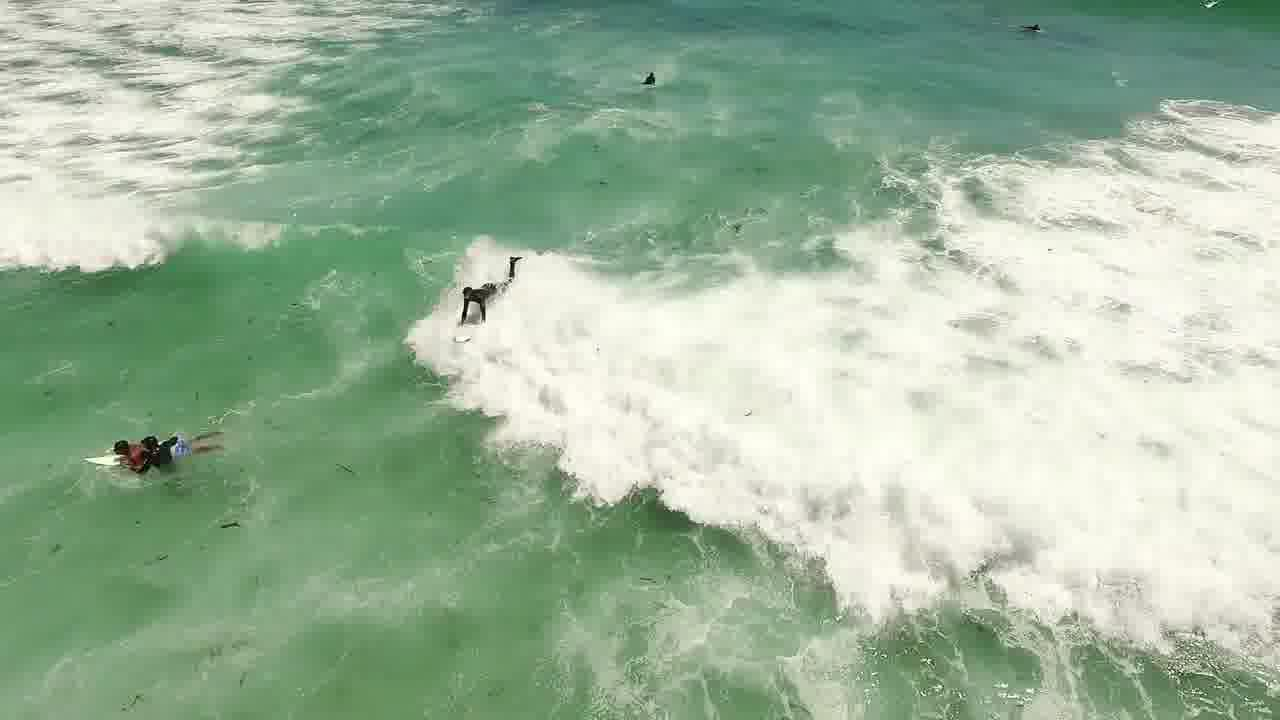human: (628, 58, 672, 111), (462, 267, 489, 328), (101, 424, 137, 461), (142, 426, 168, 466)
